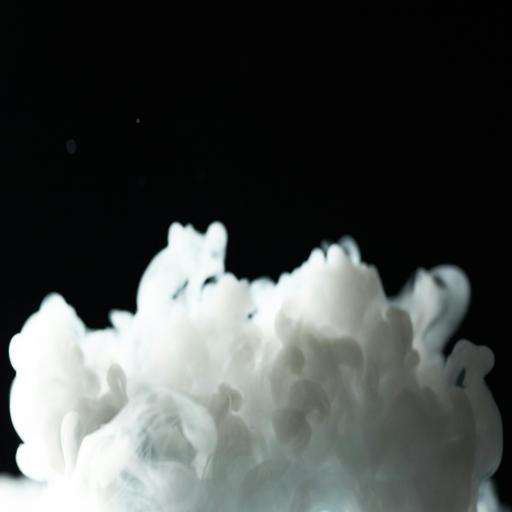smoke: (4, 186, 502, 512)
